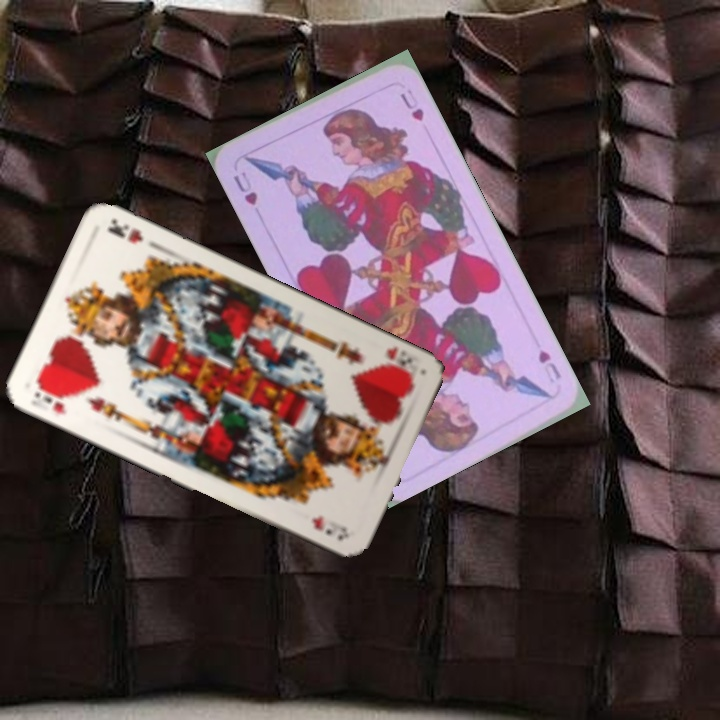HK: (30, 380, 73, 418), (376, 343, 416, 381)
HU: (228, 167, 261, 208), (534, 345, 564, 386)
